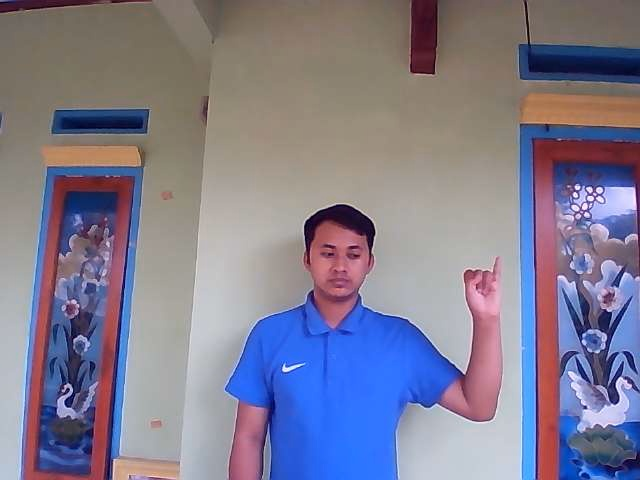I: (462, 254, 501, 314)
